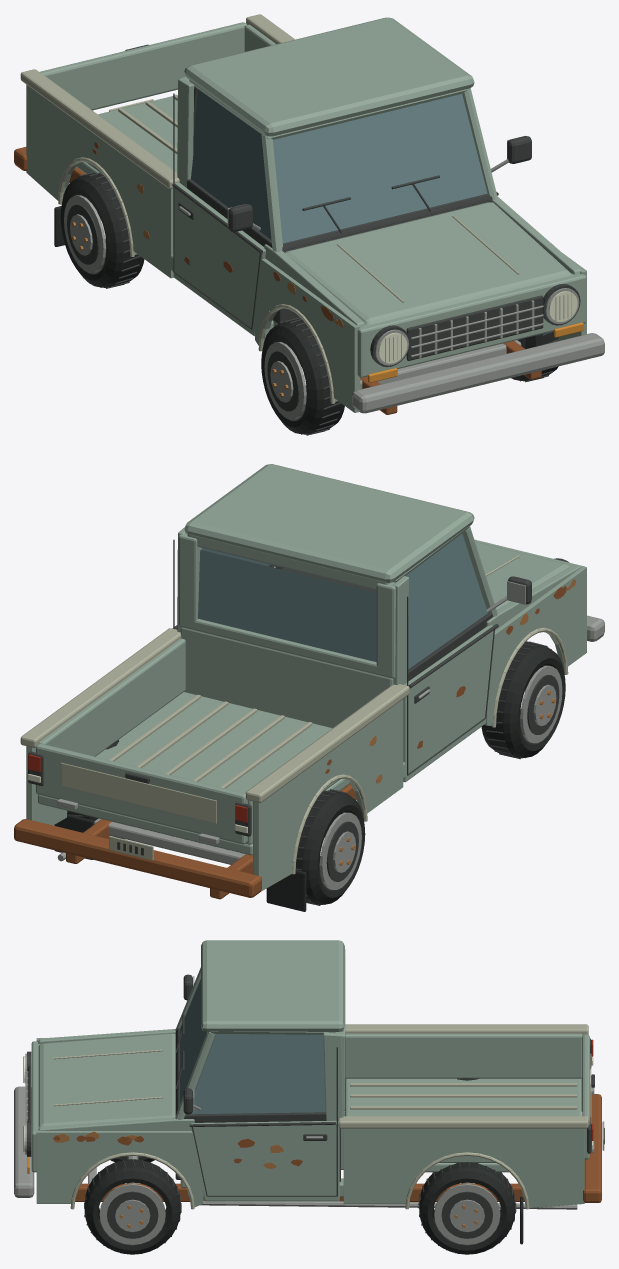
Rendered from FarmPickup.fbx.
3 views of the same model, one above another, from view 1: azimuth 30°, elevation 25°; view 2: azimuth 150°, elevation 25°; view 3: azimuth 270°, elevation 25° (orthographic). The views are drawn at different scales.
Parts seen in each view (by area): view 1: Body, Glass, Wheel_FL, Wheel_RL, Wheel_FR; view 2: Body, Glass, Wheel_FL, Wheel_RL; view 3: Body, Glass, Wheel_FR, Wheel_RR.
Part boxes in pixels (left/top/right/bottom): Body: left=14, top=14, right=604, bottom=414; Glass: left=191, top=89, right=487, bottom=243; Wheel_FL: left=261, top=317, right=344, bottom=435; Wheel_RL: left=60, top=172, right=144, bottom=288; Wheel_FR: left=511, top=331, right=558, bottom=382; Body: left=14, top=464, right=604, bottom=911; Glass: left=198, top=534, right=487, bottom=668; Wheel_FL: left=481, top=641, right=565, bottom=759; Wheel_RL: left=295, top=789, right=365, bottom=905; Body: left=14, top=940, right=604, bottom=1244; Glass: left=180, top=979, right=325, bottom=1114; Wheel_FR: left=84, top=1159, right=181, bottom=1254; Wheel_RR: left=418, top=1161, right=516, bottom=1254.
Size of the model in its own units: 2.3 by 1.97 by 4.68.
